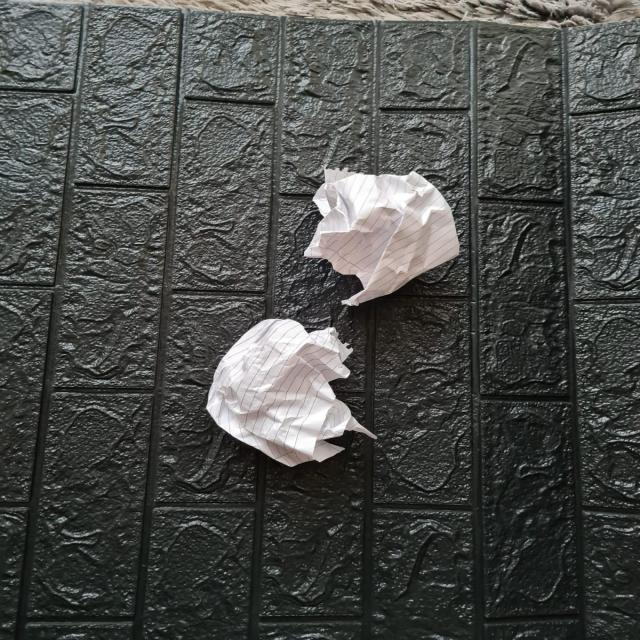trash: (206, 320, 374, 452), (312, 164, 466, 300)
